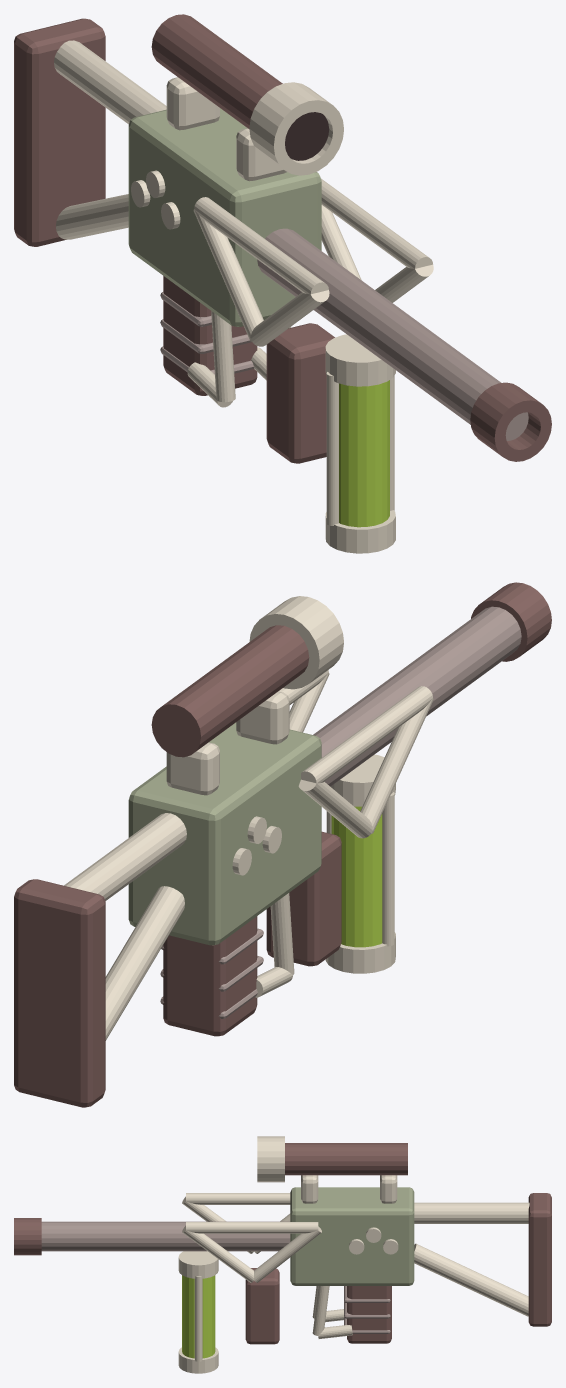
Rendered from mayo-skill-gun.glb.
3 views of the same model, one above another, from view 1: azimuth 30°, elevation 25°; view 2: azimuth 150°, elevation 25°; view 3: azimuth 270°, elevation 25° (orthographic). The views are drawn at different scales.
Parts seen in each view (by area): view 1: Sage receiver, Brown stock pad, Single slender barrel, Front handgrip, Poison ampoule, Scope tube, Scope objective rim, Open rifle muzzle, Brown rear pistol grip, Stock upper strut, Skeletal triangle, Skeletal triangle.003 (+14 smaller); view 2: Sage receiver, Brown stock pad, Scope tube, Single slender barrel, Brown rear pistol grip, Front handgrip, Poison ampoule, Stock triangular brace, Stock upper strut, Scope objective rim, Skeletal triangle, Open rifle muzzle (+10 smaller); view 3: Sage receiver, Single slender barrel, Scope tube, Brown stock pad, Stock upper strut, Stock triangular brace, Front handgrip, Brown rear pistol grip, Poison ampoule, Skeletal triangle.003, Scope objective rim, Skeletal triangle (+11 smaller).
Part boxes in pixels (x1=…): Sage receiver: x1=128, y1=108, x2=321, y2=326; Brown stock pad: x1=14, y1=18, x2=105, y2=246; Single slender barrel: x1=257, y1=228, x2=528, y2=440; Front handgrip: x1=266, y1=323, x2=334, y2=463; Poison ampoule: x1=339, y1=380, x2=389, y2=527; Scope tube: x1=151, y1=14, x2=282, y2=128; Scope objective rim: x1=249, y1=82, x2=343, y2=175; Open rifle muzzle: x1=470, y1=382, x2=551, y2=461; Brown rear pistol grip: x1=163, y1=276, x2=257, y2=395; Stock upper strut: x1=54, y1=40, x2=166, y2=124; Skeletal triangle: x1=194, y1=197, x2=328, y2=294; Skeletal triangle.003: x1=321, y1=178, x2=432, y2=268; Sage receiver: x1=128, y1=722, x2=321, y2=945; Brown stock pad: x1=14, y1=879, x2=105, y2=1107; Scope tube: x1=151, y1=625, x2=309, y2=757; Single slender barrel: x1=313, y1=606, x2=521, y2=786; Brown rear pistol grip: x1=163, y1=916, x2=257, y2=1036; Front handgrip: x1=266, y1=831, x2=341, y2=966; Poison ampoule: x1=331, y1=806, x2=382, y2=947; Stock triangular brace: x1=105, y1=886, x2=184, y2=1040; Stock upper strut: x1=64, y1=813, x2=186, y2=900; Scope objective rim: x1=249, y1=596, x2=343, y2=689; Skeletal triangle: x1=301, y1=686, x2=432, y2=783; Open rifle muzzle: x1=471, y1=582, x2=551, y2=661; Sage receiver: x1=290, y1=1187, x2=414, y2=1285; Single slender barrel: x1=41, y1=1221, x2=290, y2=1251; Scope tube: x1=285, y1=1143, x2=407, y2=1175; Brown stock pad: x1=528, y1=1193, x2=551, y2=1326; Stock upper strut: x1=414, y1=1202, x2=529, y2=1223; Stock triangular brace: x1=414, y1=1243, x2=528, y2=1316; Front handgrip: x1=245, y1=1268, x2=279, y2=1344; Brown rear pistol grip: x1=347, y1=1286, x2=391, y2=1343; Poison ampoule: x1=182, y1=1275, x2=215, y2=1358; Skeletal triangle.003: x1=186, y1=1222, x2=318, y2=1233; Scope objective rim: x1=257, y1=1136, x2=284, y2=1182; Skeletal triangle: x1=186, y1=1193, x2=290, y2=1204.
Bounding box in the file's own units: 0.188 × 0.5865 × 1.26.
